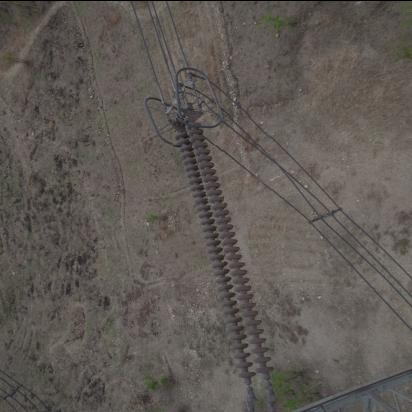insulator: (174, 117, 275, 401)
